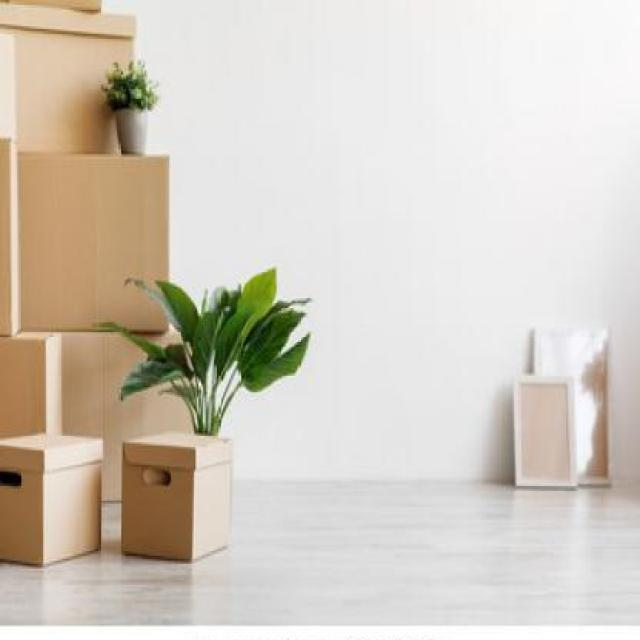box: (22, 148, 180, 332), (0, 0, 142, 159), (85, 328, 209, 502), (121, 434, 241, 570), (0, 426, 109, 574), (0, 330, 77, 433)
